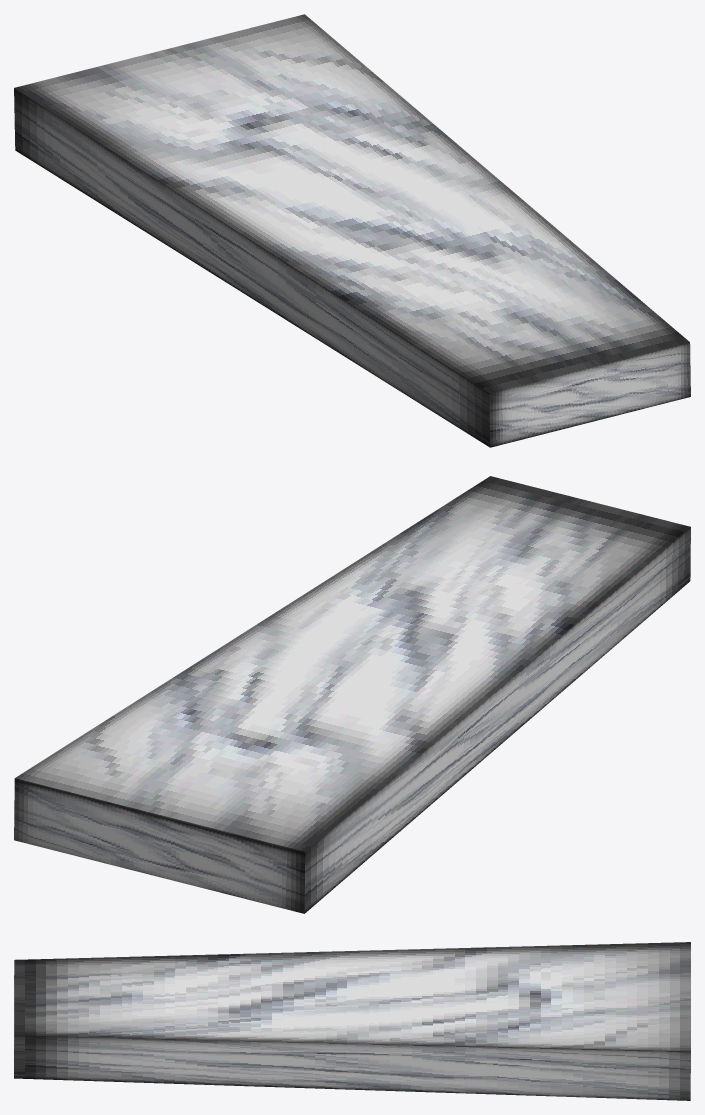
Rendered from tuer_anim_fix [Copy 1]_2805.glb.
The picture shows the model from 3 angles, top to bottom: view 1: azimuth 30°, elevation 25°; view 2: azimuth 150°, elevation 25°; view 3: azimuth 270°, elevation 25°; orthographic projection. The views are drawn at different scales.
Visible parts, largest first — view 1: pCubeShape4; view 2: pCubeShape4; view 3: pCubeShape4.
Boxes of the visible parts, <box> form: pCubeShape4: <box>14,14,690,447</box>; pCubeShape4: <box>14,476,690,913</box>; pCubeShape4: <box>14,942,690,1100</box>.
Size of the model in its own units: 0.0522 by 0.0112 by 0.1336.
Materials: 1 (1 with a texture image).
